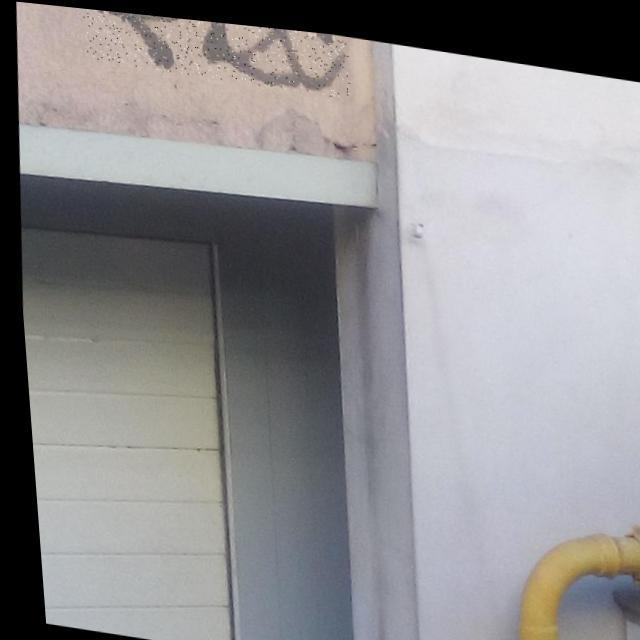-: (81, 7, 353, 92)
